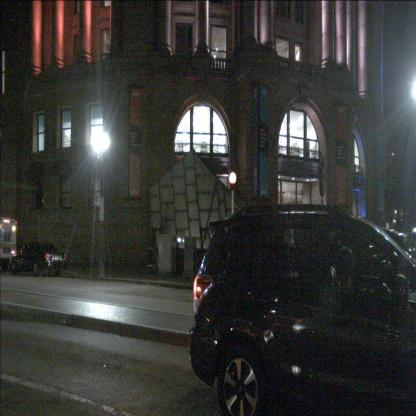vehicle-bus-rigid: (0, 217, 17, 271)
vehicle-car: (188, 203, 416, 416), (11, 242, 66, 276)
